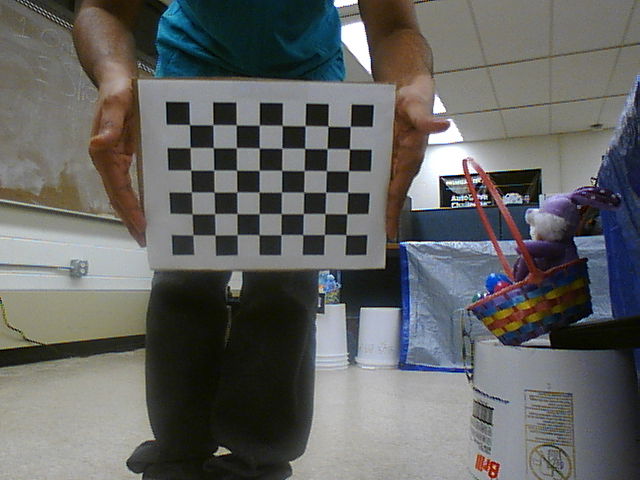bunny: (451, 150, 599, 342)
